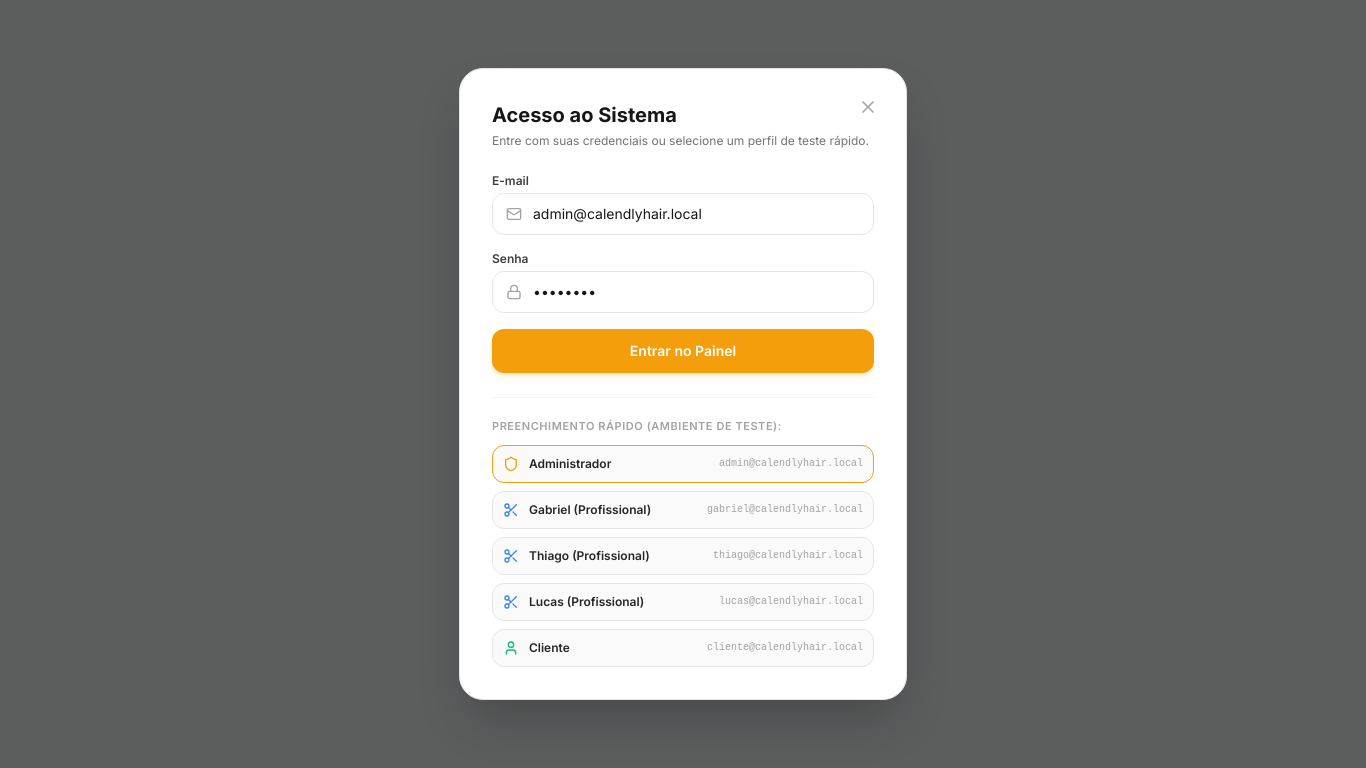
it: Componente LoginModal › exibe erro ao informar credenciais incorretas
Replace the text in the field showing "admin@calendlyhair.local" with "invalido@email.com": (683, 214) [492, 193, 874, 235]
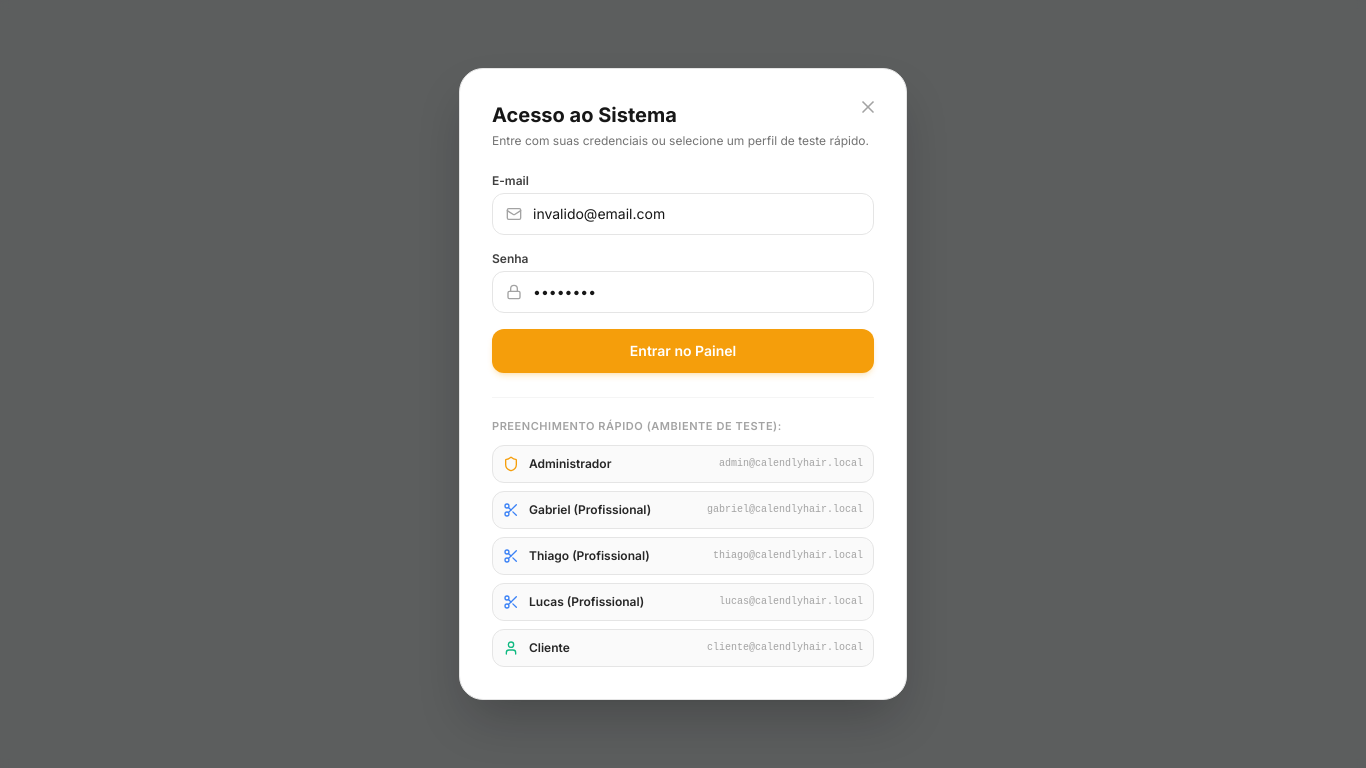
Click the button "Entrar no Painel": (683, 351) [492, 329, 874, 373]
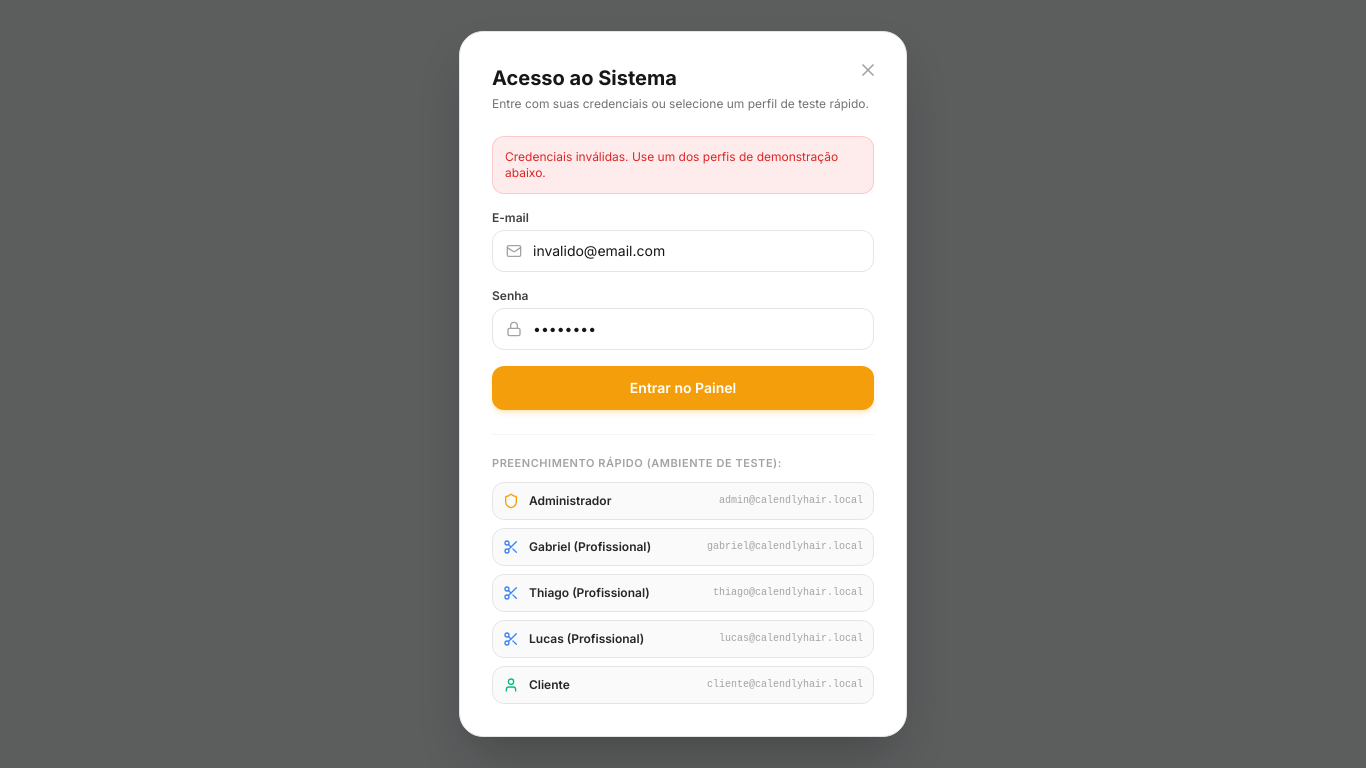
Now the text "Credenciais inválidas" is shown, box [505, 149, 838, 180]
